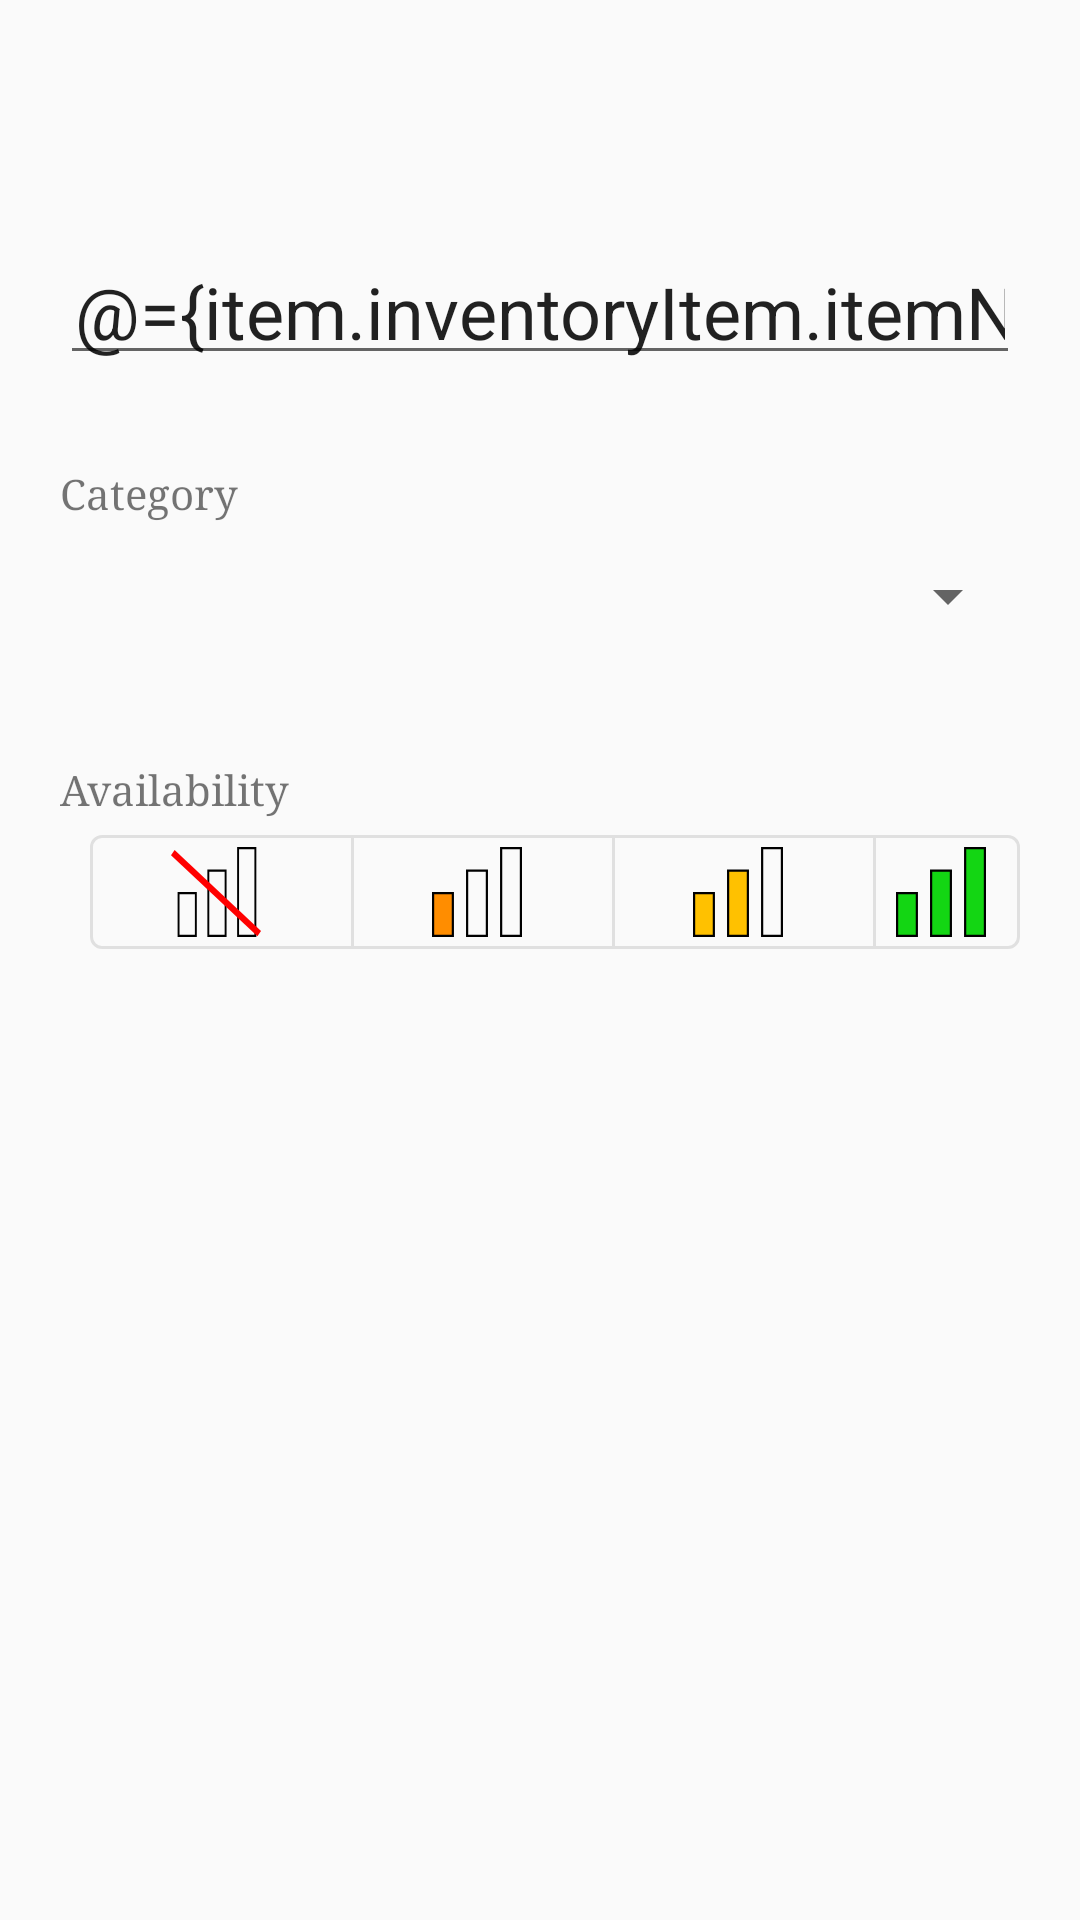

Named icons in this screenshot (1080 × 1920) and their bounding boxes, (x1, y1, x2, y2):
high: (896, 847, 986, 937)
low: (351, 835, 615, 949)
medium: (693, 847, 783, 937)
none: (90, 835, 354, 949)
